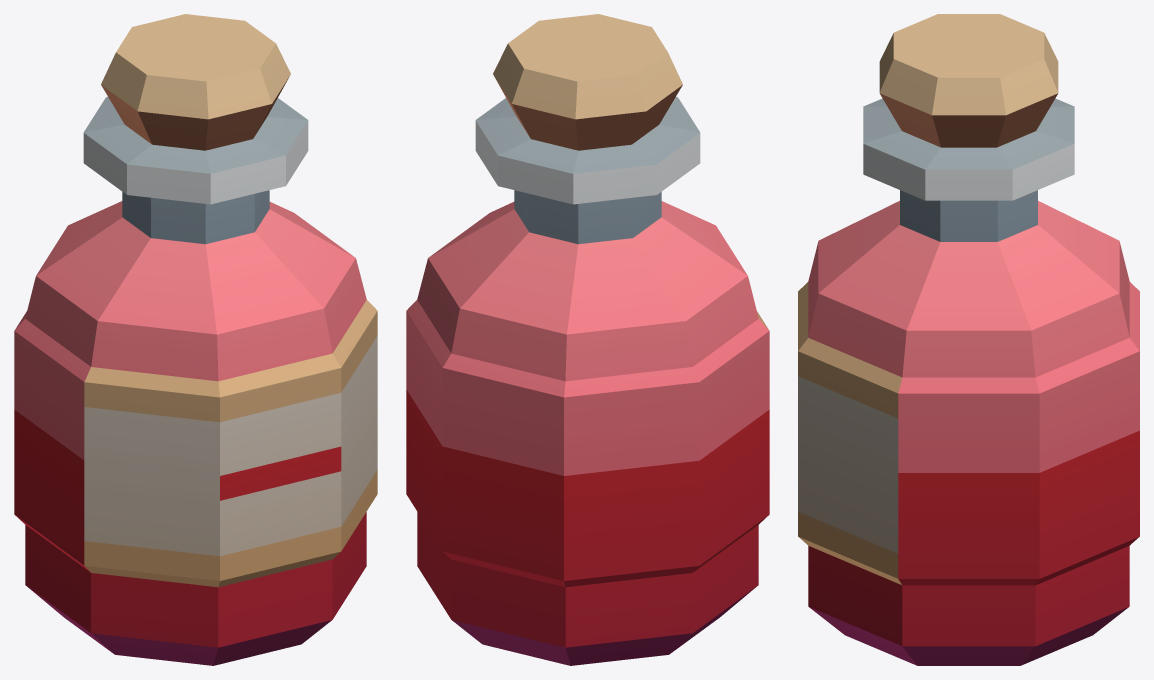
File: source.glb
3 renders of one model, left to right at view 1: azimuth 30°, elevation 25°; view 2: azimuth 150°, elevation 25°; view 3: azimuth 270°, elevation 25°, orthographic.
Parts seen in each view (by area): view 1: model; view 2: model; view 3: model.
Boxes of the visible parts, bbox=[...] form: model: bbox=[14, 14, 377, 665]; model: bbox=[406, 14, 769, 665]; model: bbox=[798, 14, 1139, 665].
Size of the model in its own units: 0.48 by 0.88 by 0.48.
Materials: 1 (1 with a texture image).
